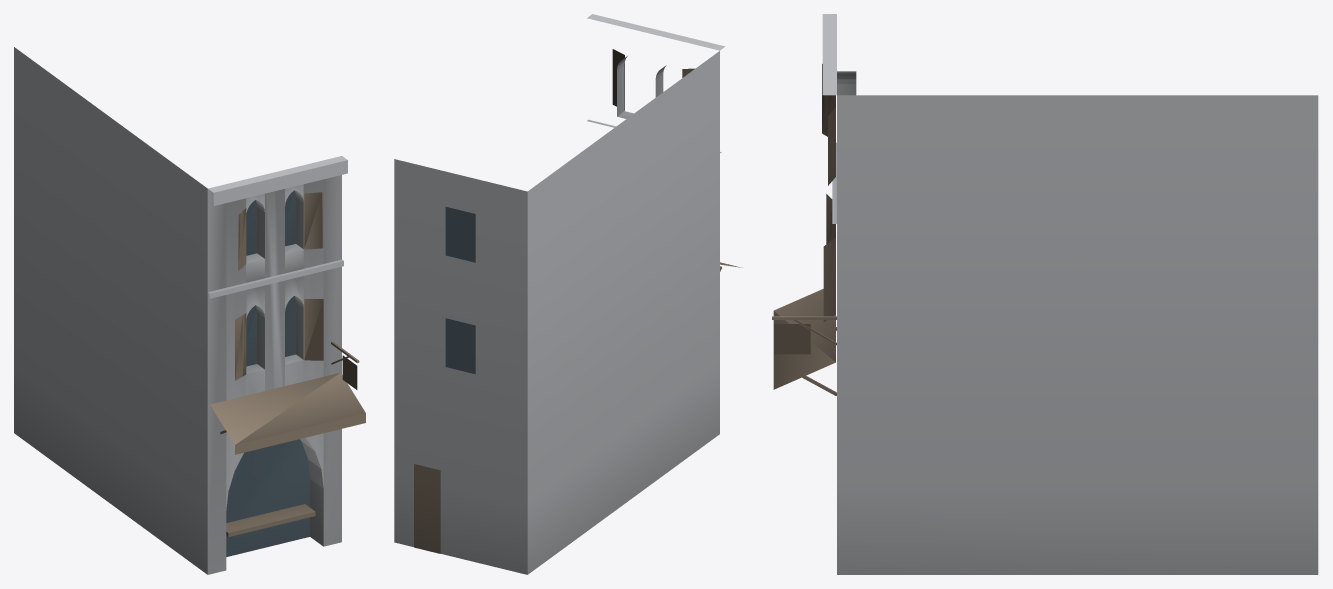
The model's file is sg_house_shop.glb.
3 views of the same model, side by side, from view 1: azimuth 30°, elevation 25°; view 2: azimuth 150°, elevation 25°; view 3: azimuth 270°, elevation 25° (orthographic). The views are drawn at different scales.
Visible parts, largest first — view 1: sg_house_shop_SG_Stone, sg_house_shop_SG_Joinery, sg_house_shop_SG_Glass; view 2: sg_house_shop_SG_Stone, sg_house_shop_SG_Glass, sg_house_shop_SG_Joinery; view 3: sg_house_shop_SG_Stone, sg_house_shop_SG_Joinery.
Part boxes in pixels (x1,y1,x2,y2): sg_house_shop_SG_Stone: [14, 47, 347, 574]; sg_house_shop_SG_Joinery: [210, 192, 365, 537]; sg_house_shop_SG_Glass: [226, 190, 309, 556]; sg_house_shop_SG_Stone: [394, 14, 725, 574]; sg_house_shop_SG_Glass: [445, 207, 475, 374]; sg_house_shop_SG_Joinery: [414, 49, 742, 553]; sg_house_shop_SG_Stone: [822, 14, 1318, 574]; sg_house_shop_SG_Joinery: [772, 64, 836, 395].
Size of the model in its own units: 4 by 11 by 11.37.
